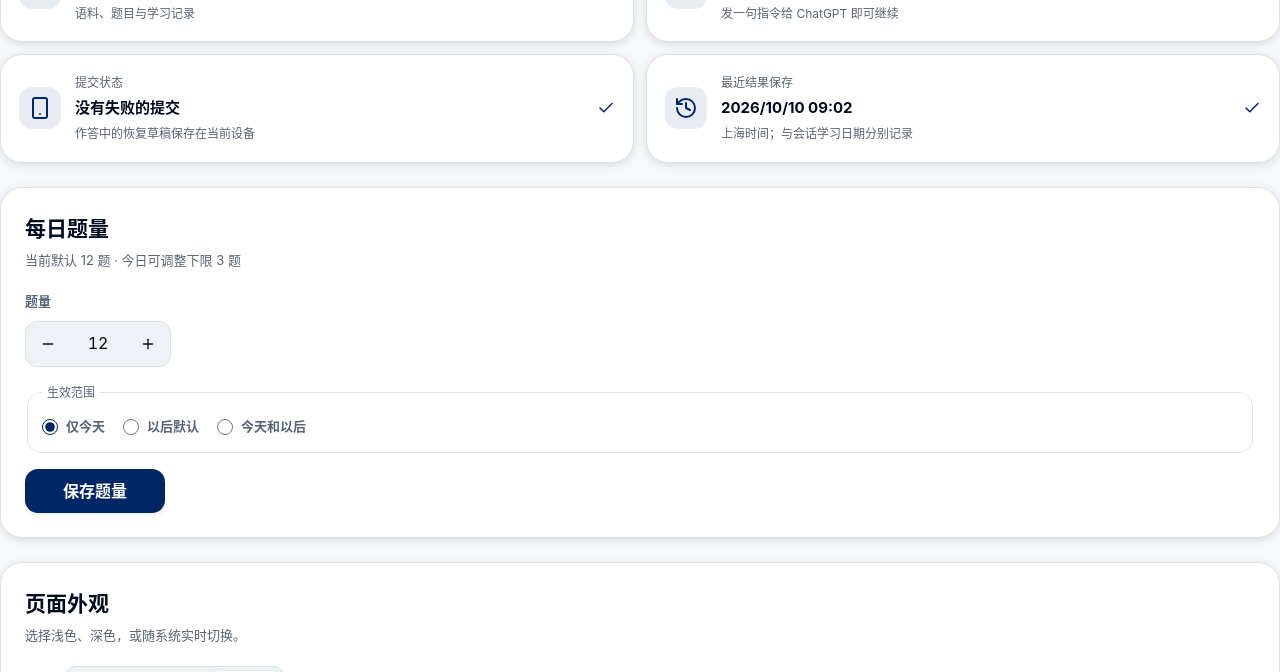
Scenario: Question settings › sends both scopes atomically with the current settings revision
The image size is (1280, 672).
(page scrolled)
Expected: the text "当前默认 12 题 · 今日可调整下限 3 题" is shown, [25,252,241,268]
Replace the text in the number field labelled "题量" with "20" at point(98, 344), box [70,322,126,366]
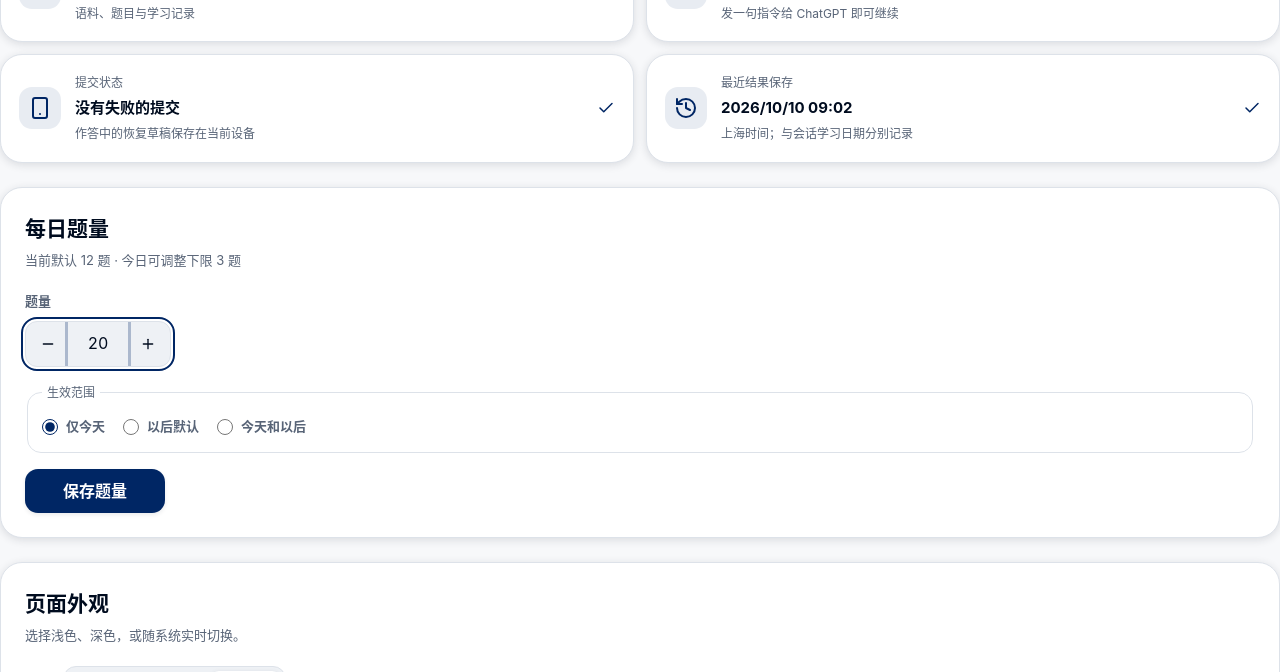
Click the radio button labelled "今天和以后".
click(225, 427)  # box [217,419,233,435]
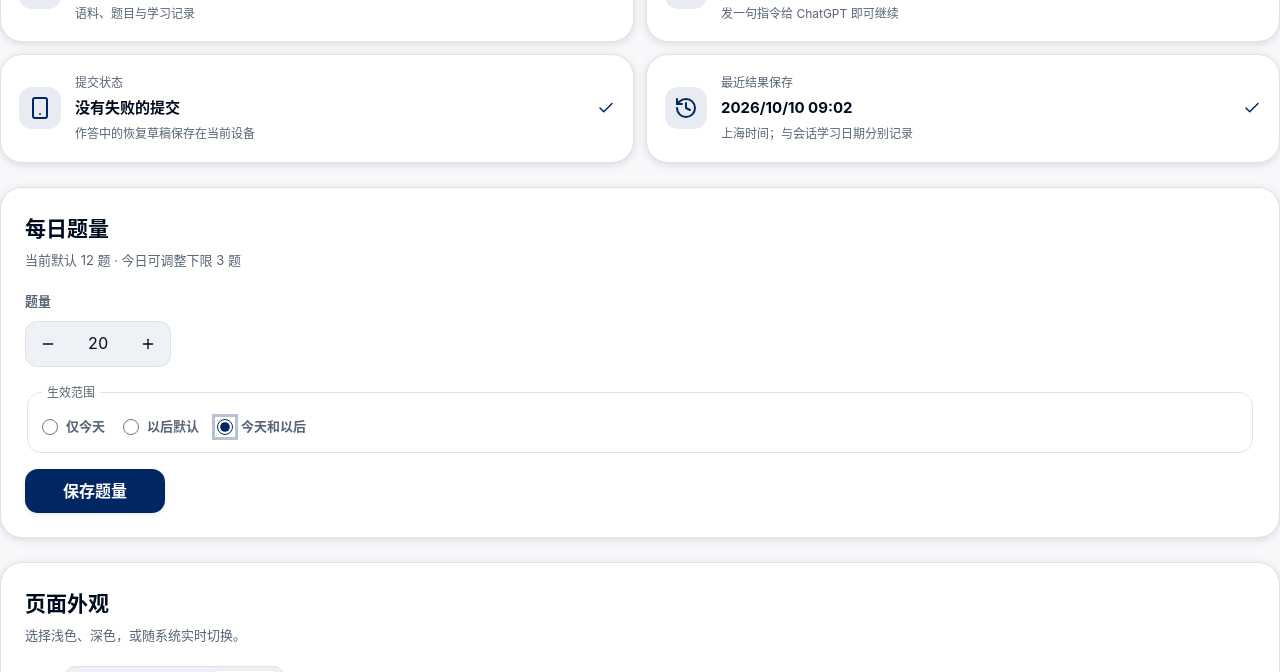
Click the button "保存题量".
click(95, 491)  # box [25,469,165,513]
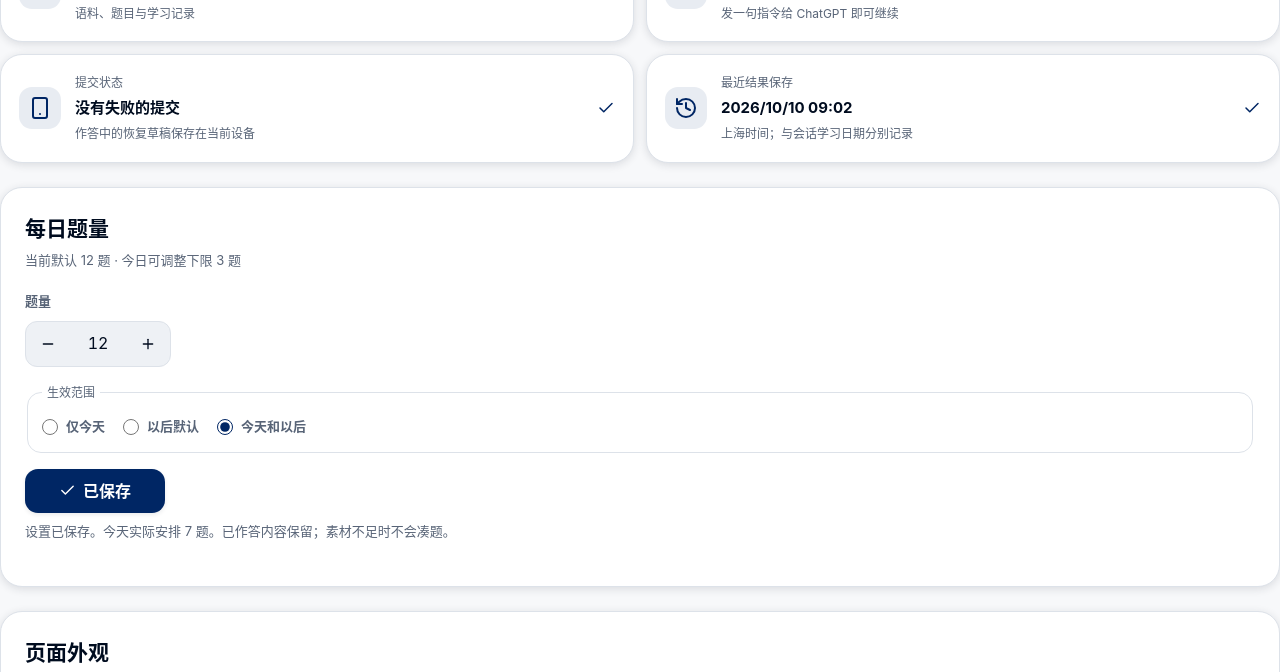
Now the message shows "实际安排 7 题", box [25,523,456,539]
